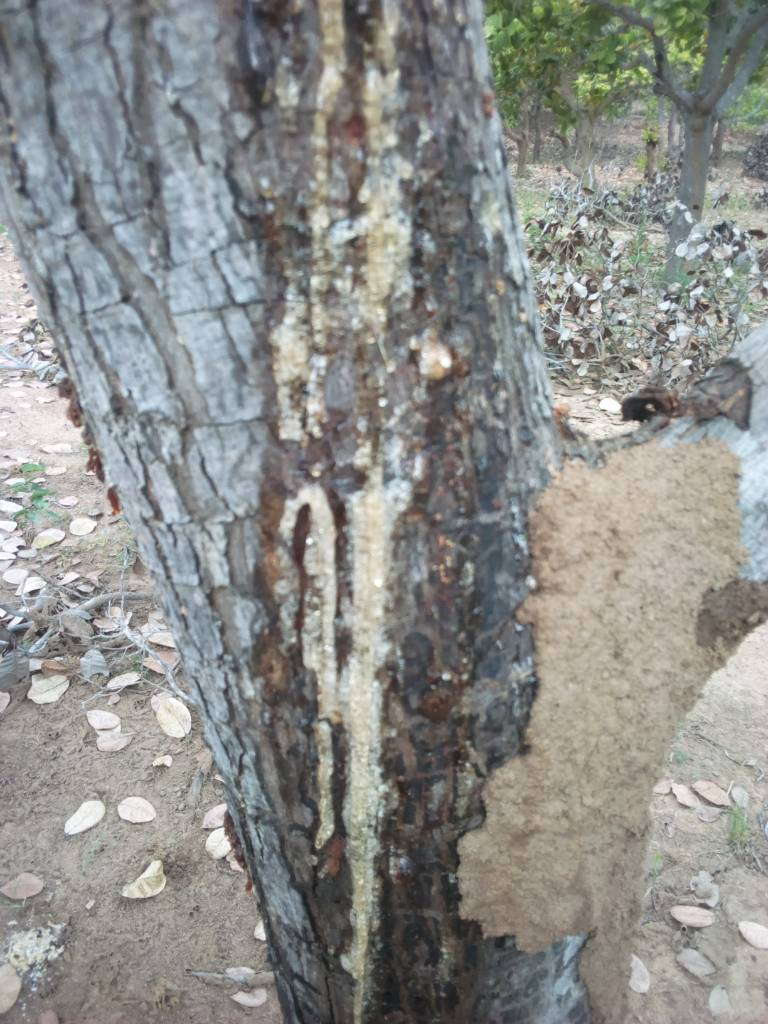Termites: (510, 455, 647, 997)
